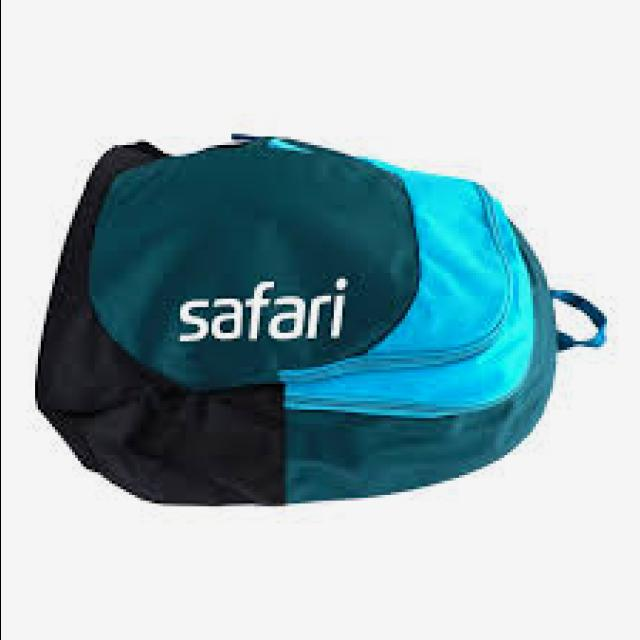backpack: (36, 132, 610, 508)
